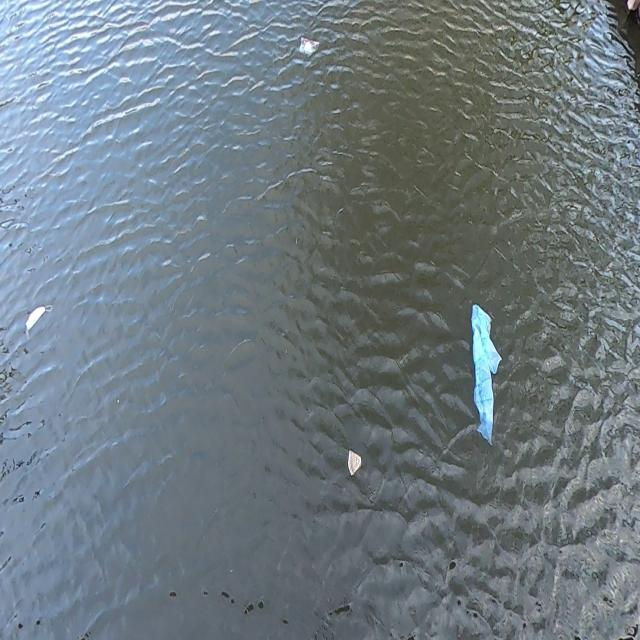Non plastique: (21, 298, 56, 342), (344, 444, 365, 482)
Sac plastique: (465, 297, 506, 448), (296, 32, 322, 60)
